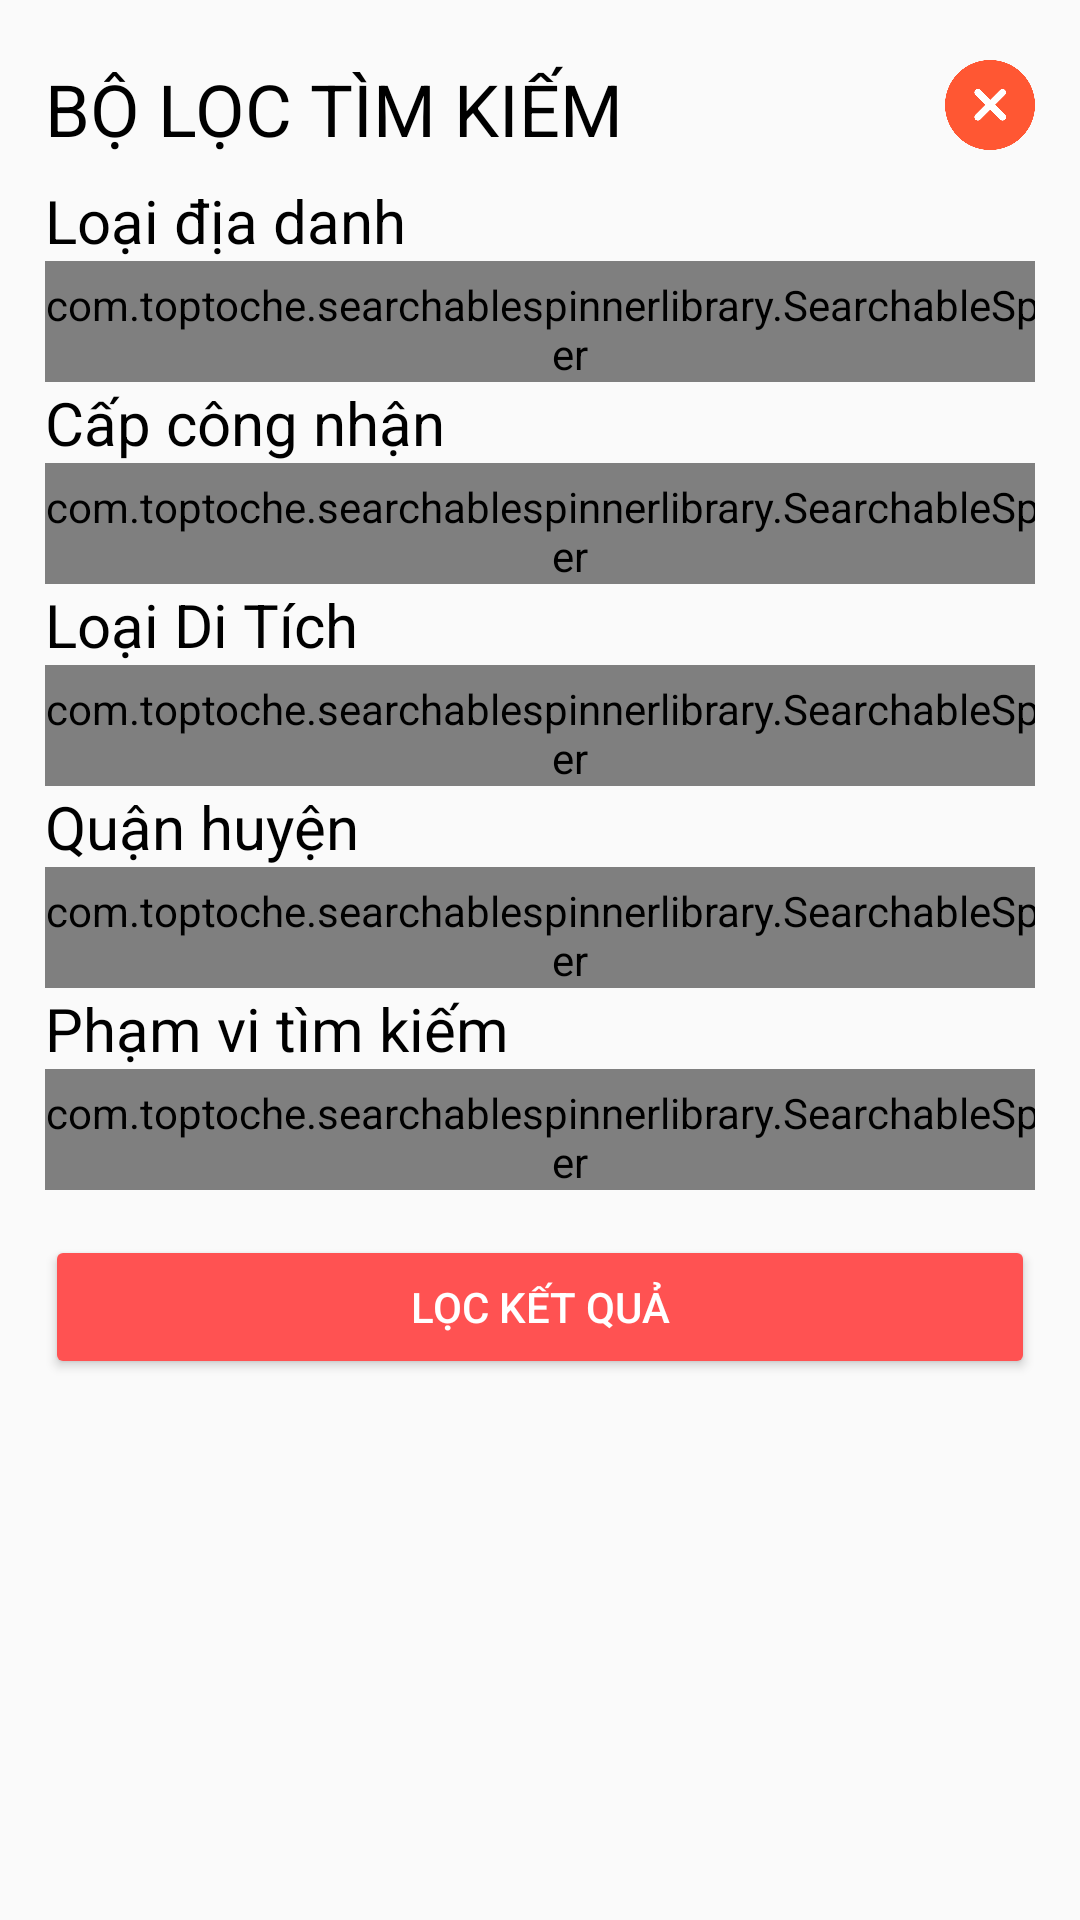

Where to tap for icons on this 1080px x 1920px app screen, as point (x, y):
cancel: point (990, 105)
